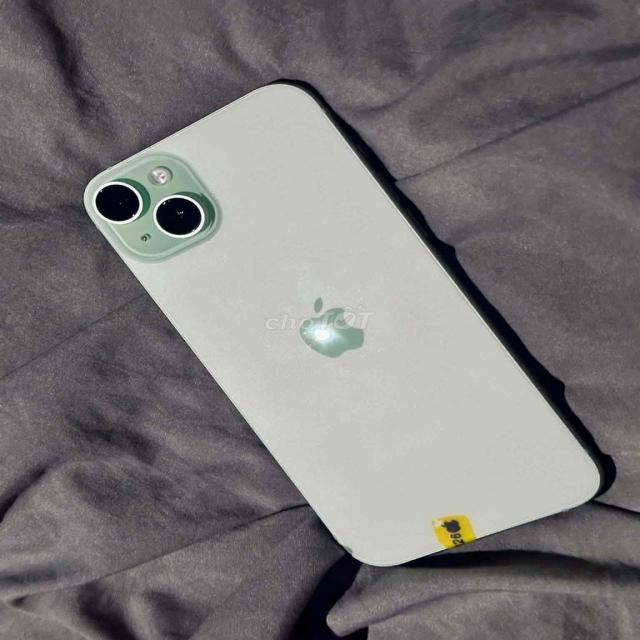gen_15: (58, 73, 612, 561)
